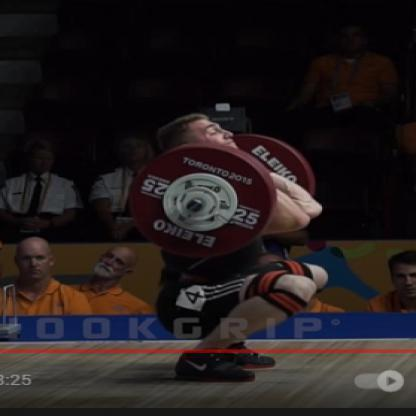barbell: (130, 134, 318, 258)
